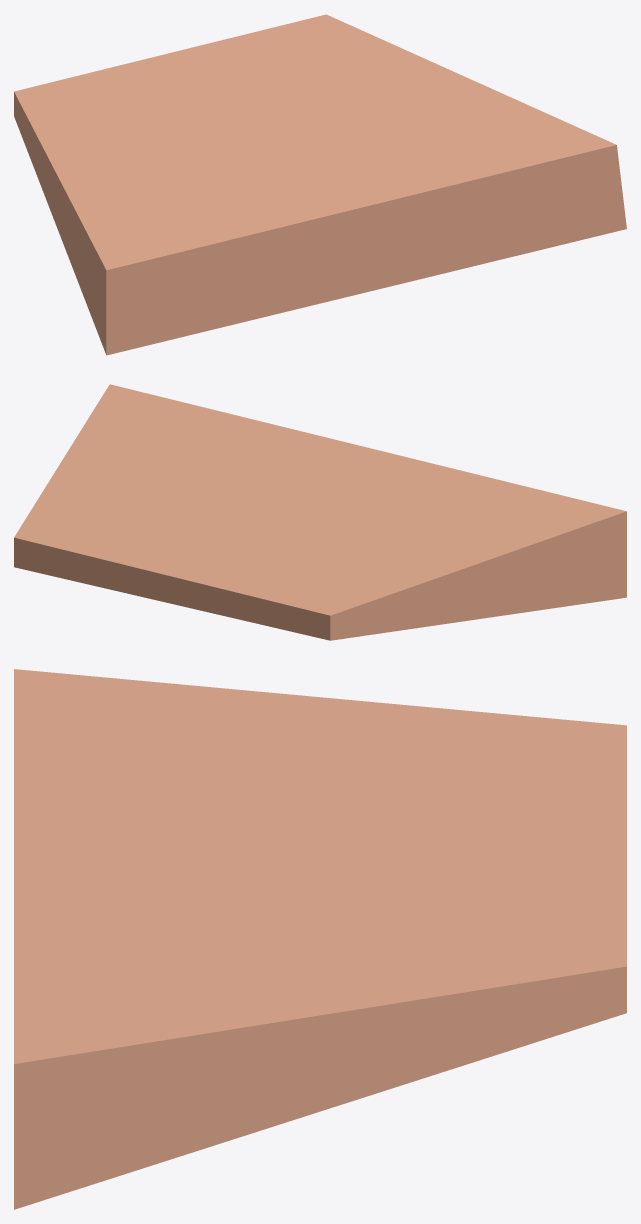
The model's file is PLANCHE A DECOUPER.fbx.
3 renders of one model, top to bottom at view 1: azimuth 30°, elevation 25°; view 2: azimuth 150°, elevation 25°; view 3: azimuth 270°, elevation 25°, orthographic. The views are drawn at different scales.
Parts seen in each view (by area): view 1: bkacground1:PLANCHE_A_DECOUPER; view 2: bkacground1:PLANCHE_A_DECOUPER; view 3: bkacground1:PLANCHE_A_DECOUPER.
Part boxes in pixels (x1,y1,x2,y2): bkacground1:PLANCHE_A_DECOUPER: (14,14,626,355); bkacground1:PLANCHE_A_DECOUPER: (14,384,626,640); bkacground1:PLANCHE_A_DECOUPER: (14,669,626,1209).
Bounding box in the file's own units: 88.97 × 16.35 × 57.
